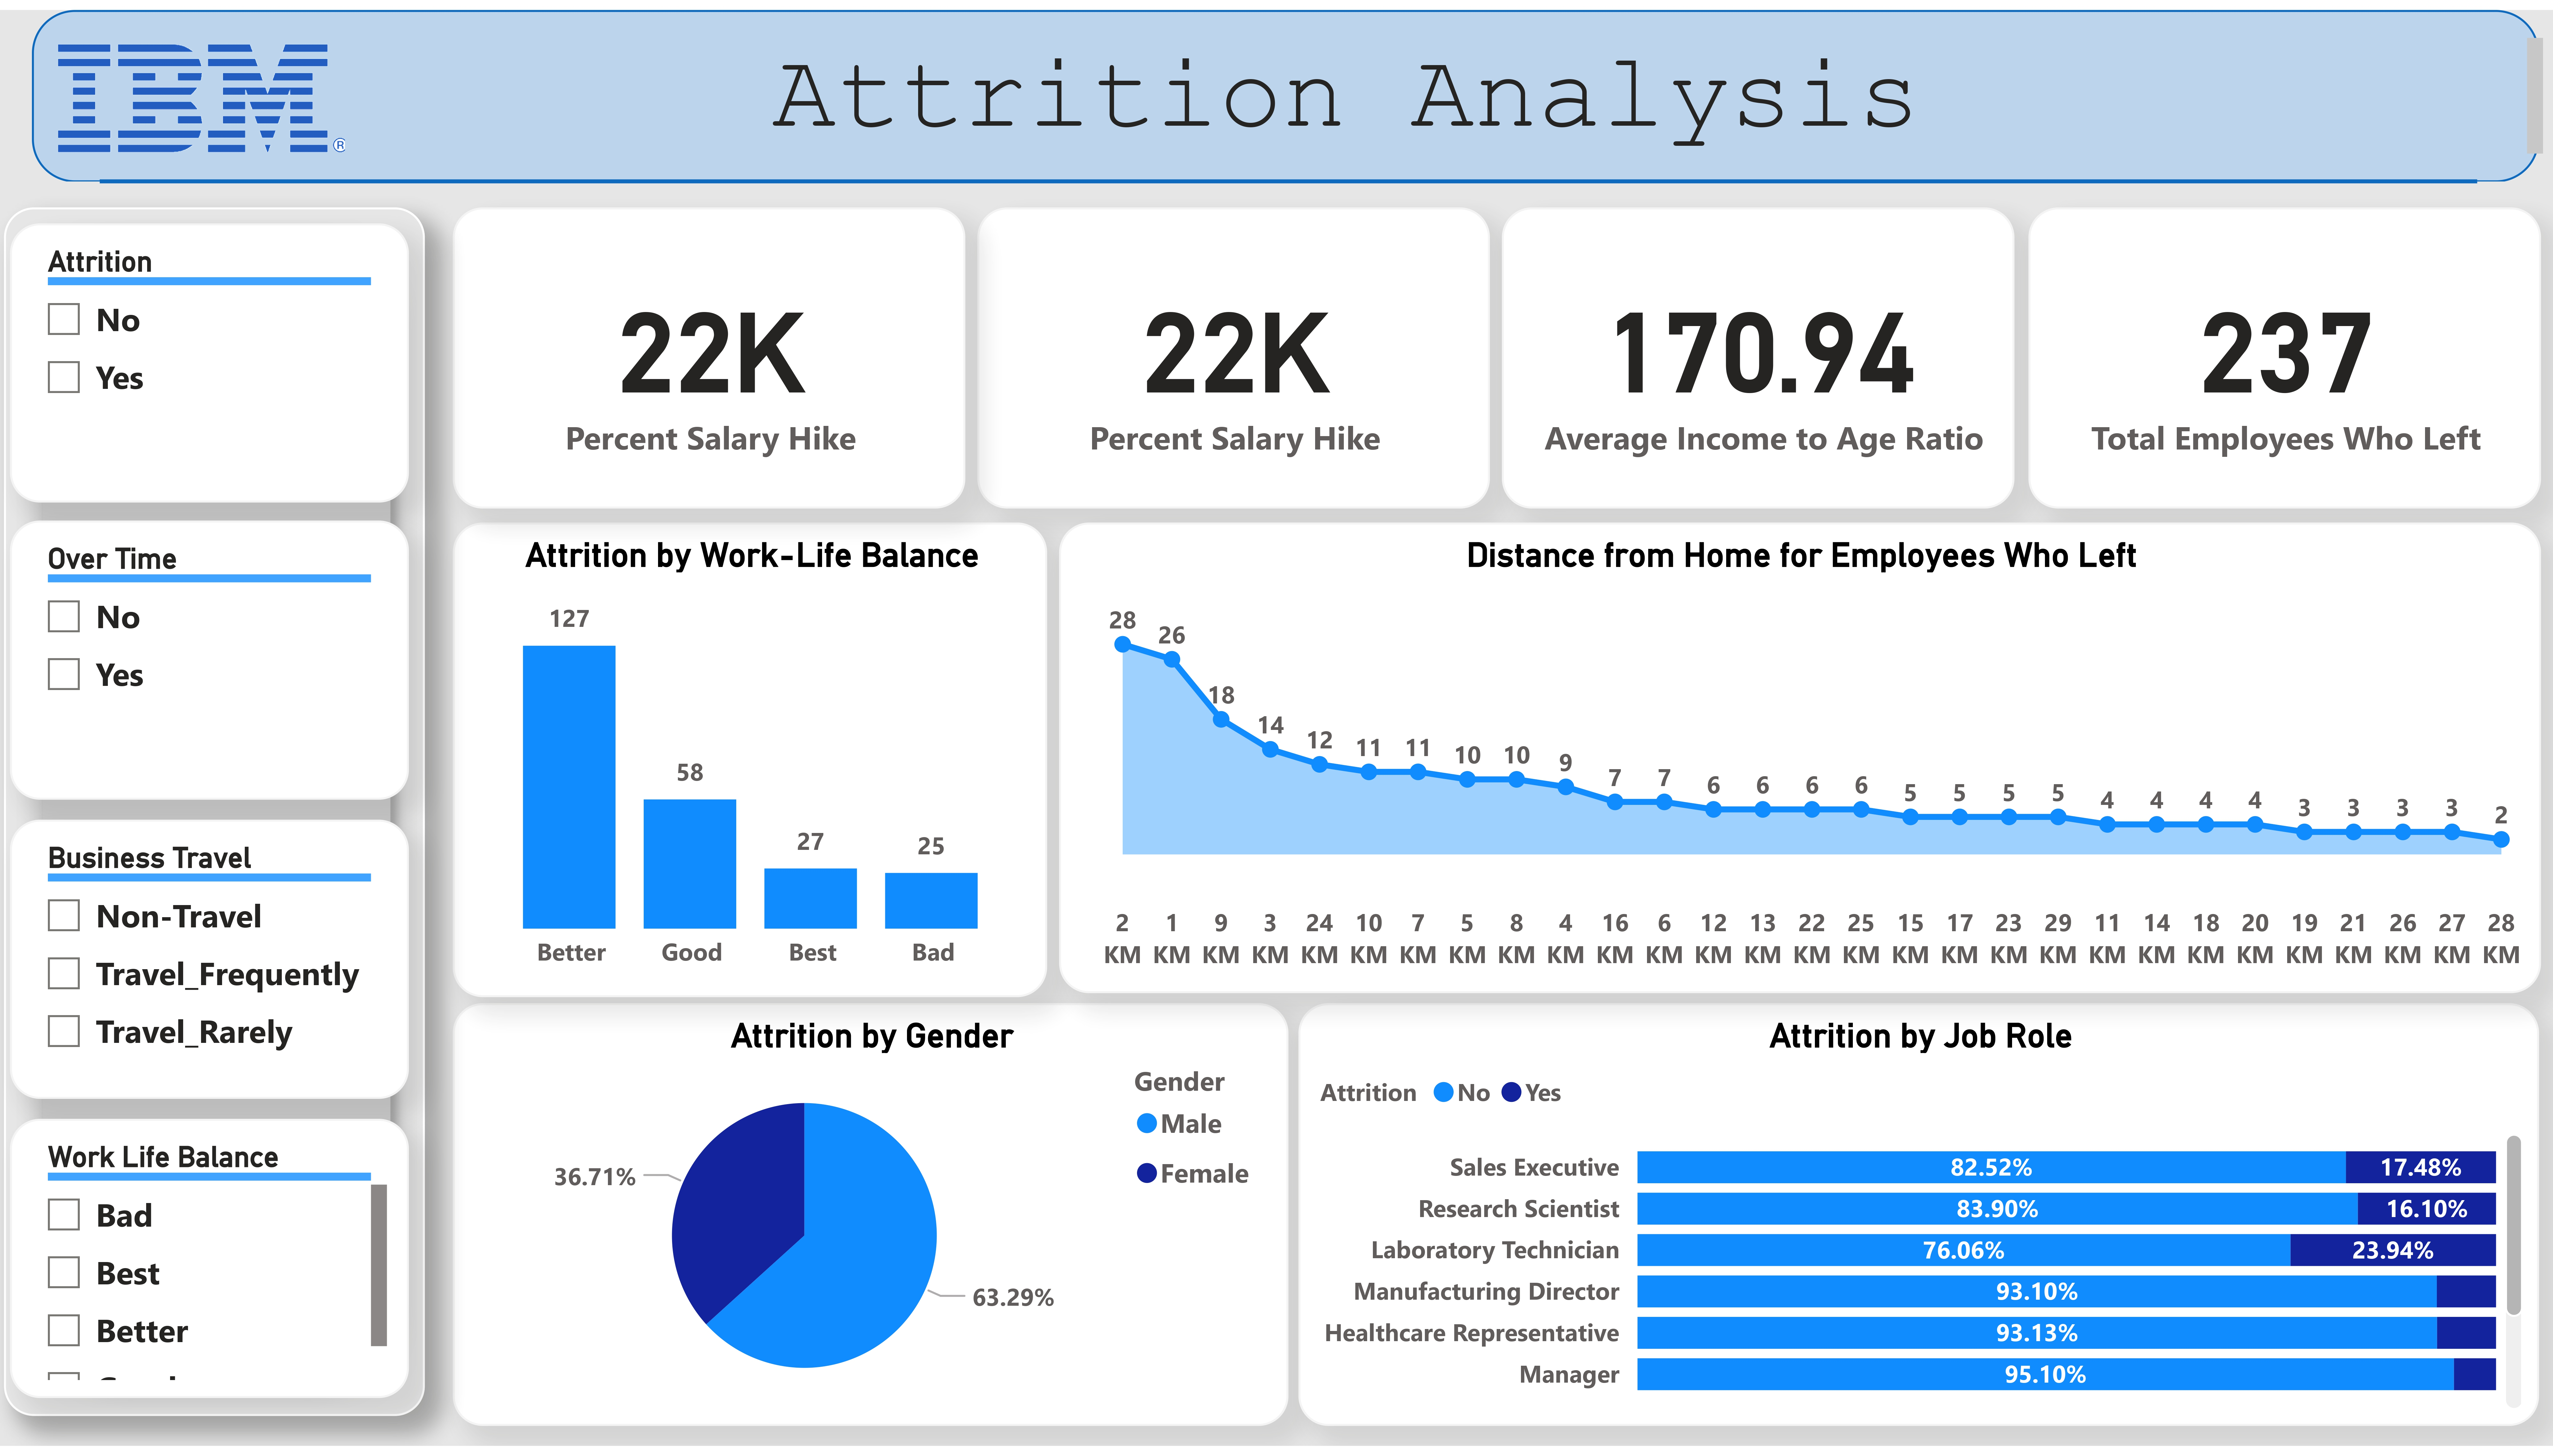

This screenshot's page, from the dashboard's own definition file:
{"tool":"powerbi","page":{"name":" Attrition Analysis","canvas":[1280,720],"ordinal":2},"visuals":[{"type":"card","fields":{"Values":["Cleaned_Employee_Data.Percent Salary Hike"]},"box":[490,99,256.5,151.2],"z":0},{"type":"card","fields":{"Values":["Cleaned_Employee_Data.Income To Age Ratio"]},"box":[753,98.6,256.5,151.2],"z":1000},{"type":"card","fields":{"Values":["Cleaned_Employee_Data.Employee Number"]},"box":[1016.7,98.6,256.5,151.2],"z":2000},{"type":"pieChart","title":"Attrition by Gender","fields":{"Category":["Cleaned_Employee_Data.Gender"],"Y":["Cleaned_Employee_Data.Employee Number"]},"box":[226.8,498.2,418.6,212],"z":3000},{"type":"hundredPercentStackedBarChart","title":"Attrition by Job Role","fields":{"Category":["Cleaned_Employee_Data.Job Role"],"Series":["Cleaned_Employee_Data.Attrition"],"Y":["Cleaned_Employee_Data.Employee Number"]},"box":[650.8,498.2,622.4,212],"z":4000},{"type":"columnChart","title":"Attrition by Work-Life Balance","fields":{"Category":["Cleaned_Employee_Data.Work Life Balance"],"Y":["Cleaned_Employee_Data.Employee Number"]},"box":[226.8,256.5,298.4,237.6],"z":5000},{"type":"stackedAreaChart","title":"Distance from Home for Employees Who Left","fields":{"Category":["Cleaned_Employee_Data.Distance From Home"],"Y":["Cleaned_Employee_Data.Attrition"]},"box":[530.9,256.5,743,236],"z":6000},{"type":"card","fields":{"Values":["Cleaned_Employee_Data.Percent Salary Hike"]},"box":[227,99,256.5,151.2],"z":7000},{"type":"shape","box":[16.2,0,1257,86.4],"z":8000},{"type":"shape","box":[2,99,211.3,606.4],"z":9000},{"type":"slicer","fields":{"Values":["Cleaned_Employee_Data.Attrition"]},"box":[5,107,200,140],"z":10000},{"type":"slicer","fields":{"Values":["Cleaned_Employee_Data.Over Time"]},"box":[5,256,200,140],"z":11000},{"type":"slicer","fields":{"Values":["Cleaned_Employee_Data.Business Travel"]},"box":[5,406,200,140],"z":12000},{"type":"slicer","fields":{"Values":["Cleaned_Employee_Data.Work Life Balance"]},"box":[5,556,200,140],"z":13000},{"type":"shape","box":[50,10.8,1192.2,149.9],"z":14000},{"type":"image","box":[0,0,200.3,86.4],"z":15000},{"type":"textbox","box":[382.1,9.5,897.9,68.9],"z":16000}]}

Visuals, with their boxes in screenshot pixels (x1, y1, x2, y2), scaled from the page's 1280x720 canvas onto the 2553x1456 screenshot:
card - Cleaned_Employee_Data.Percent Salary Hike: bbox=[977, 200, 1489, 506]
card - Cleaned_Employee_Data.Income To Age Ratio: bbox=[1502, 199, 2013, 505]
card - Cleaned_Employee_Data.Employee Number: bbox=[2028, 199, 2540, 505]
"Attrition by Gender" pieChart: bbox=[453, 1007, 1287, 1436]
"Attrition by Job Role" hundredPercentStackedBarChart: bbox=[1298, 1007, 2539, 1436]
"Attrition by Work-Life Balance" columnChart: bbox=[453, 519, 1048, 999]
"Distance from Home for Employees Who Left" stackedAreaChart: bbox=[1059, 519, 2541, 996]
card - Cleaned_Employee_Data.Percent Salary Hike: bbox=[453, 200, 964, 506]
shape: bbox=[32, 0, 2540, 175]
shape: bbox=[4, 200, 425, 1426]
slicer - Cleaned_Employee_Data.Attrition: bbox=[10, 216, 409, 500]
slicer - Cleaned_Employee_Data.Over Time: bbox=[10, 518, 409, 801]
slicer - Cleaned_Employee_Data.Business Travel: bbox=[10, 821, 409, 1104]
slicer - Cleaned_Employee_Data.Work Life Balance: bbox=[10, 1124, 409, 1408]
shape: bbox=[100, 22, 2478, 325]
image: bbox=[0, 0, 400, 175]
textbox: bbox=[762, 19, 2553, 159]
